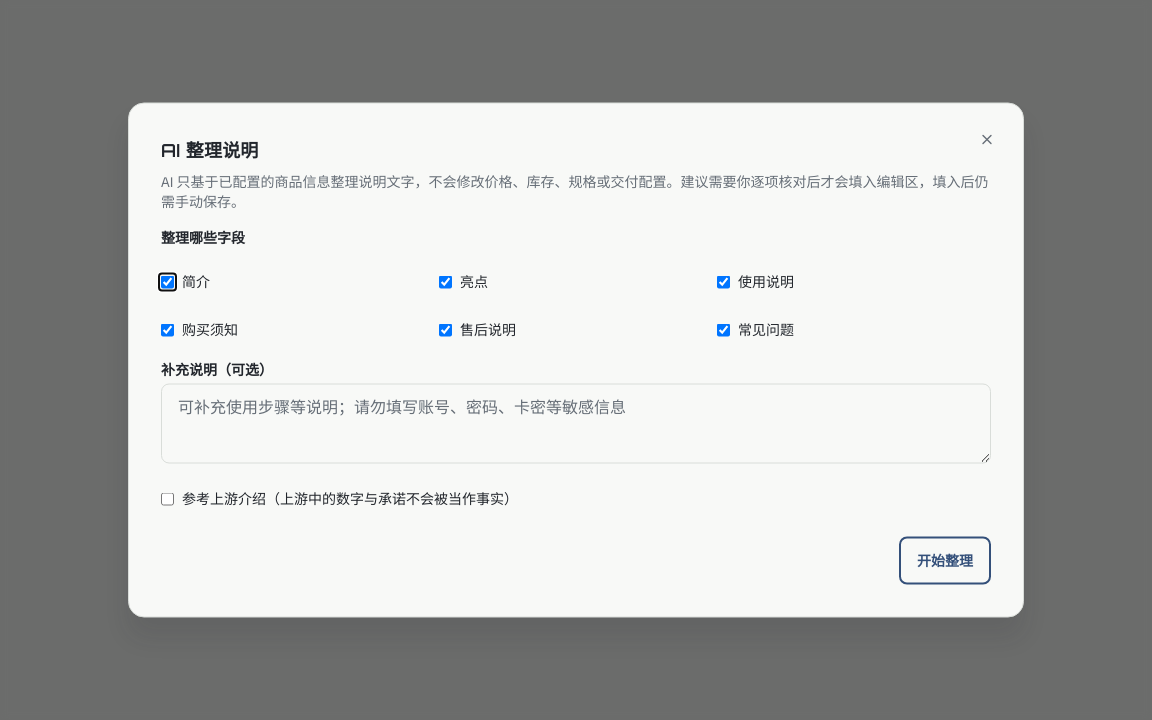
Scenario: ProductContentSuggestionDialog (SPEC-AI-PRODUCT-001 §8) › offers the upstream option only when allowed
Step 1. Click the checkbox with test id "content-suggestion-use-upstream" → (168, 498), box [161,492,174,505]
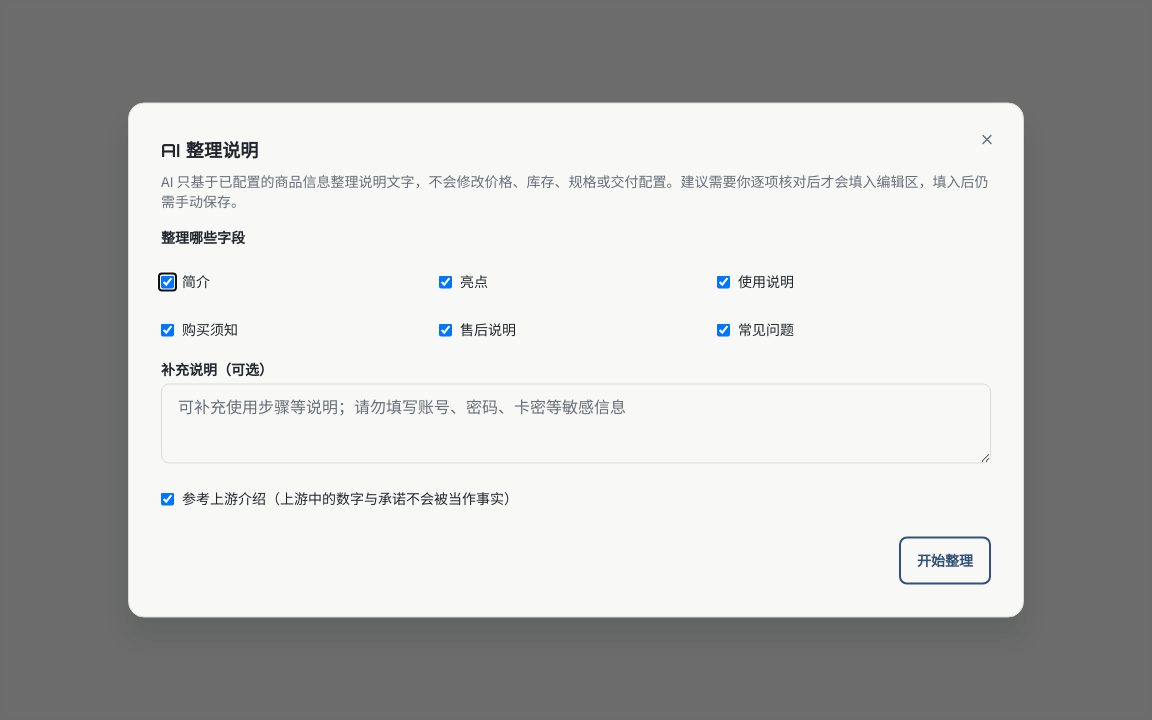
Step 2. Click the button with test id "content-suggestion-generate" → (945, 560), box [899,536,991,584]
(page scrolled)
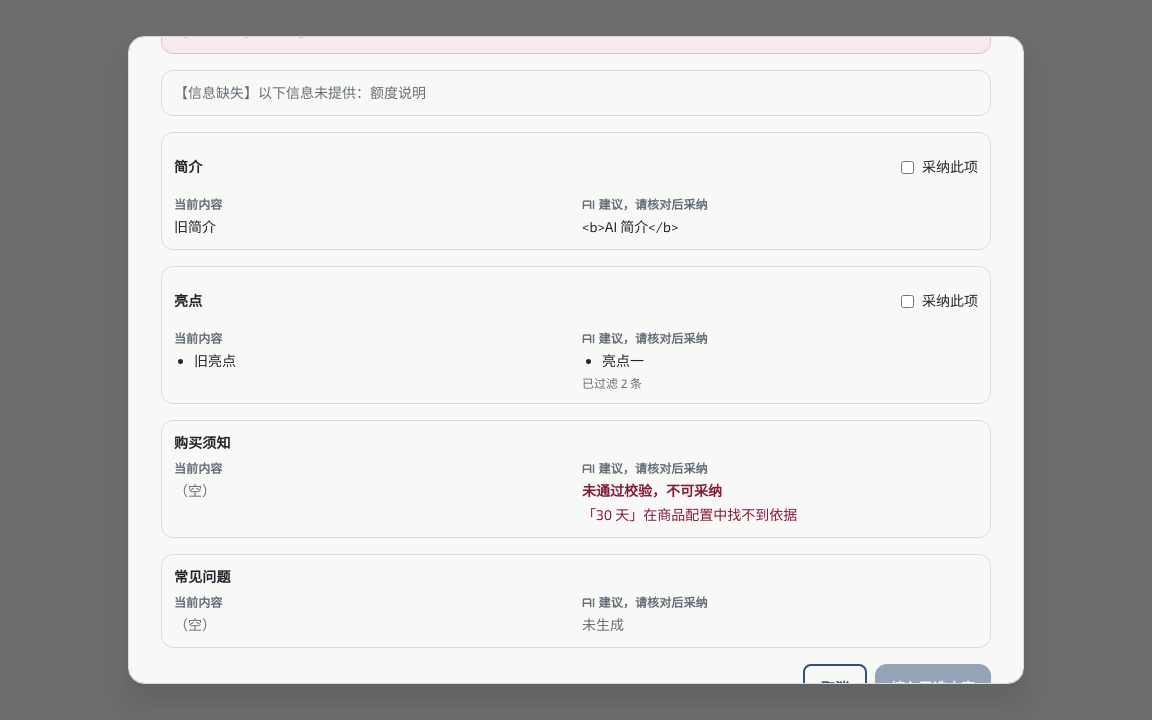
Result: the element with test id "content-suggestion-result" is shown
